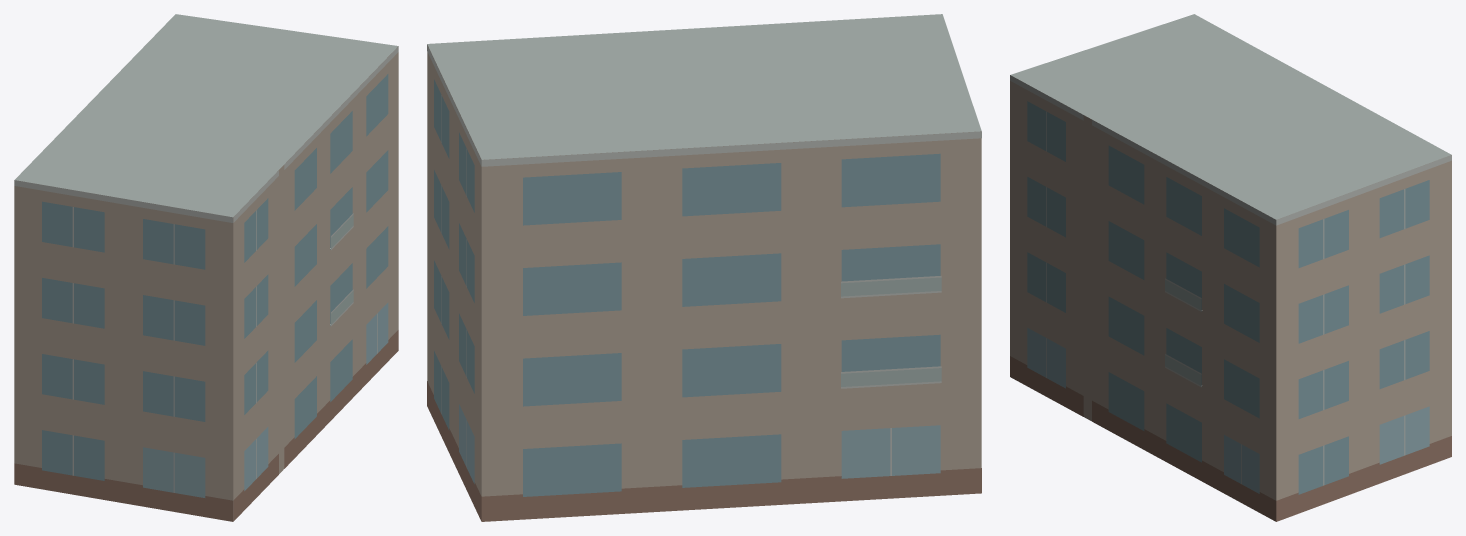
Rendered from survey-upis-32616549.glb.
The picture shows the model from 3 angles, left to right: view 1: azimuth 30°, elevation 25°; view 2: azimuth 150°, elevation 25°; view 3: azimuth 270°, elevation 25°; orthographic projection. The views are drawn at different scales.
Visible parts, largest first — view 1: survey-upis-32616549.tmp; view 2: survey-upis-32616549.tmp; view 3: survey-upis-32616549.tmp.
Boxes of the visible parts, box(x1,y1,x2,y2) form: survey-upis-32616549.tmp: box(14, 14, 398, 521); survey-upis-32616549.tmp: box(427, 14, 981, 521); survey-upis-32616549.tmp: box(1010, 14, 1451, 521).
Size of the model in its own units: 18.57 by 12.7 by 16.84.
